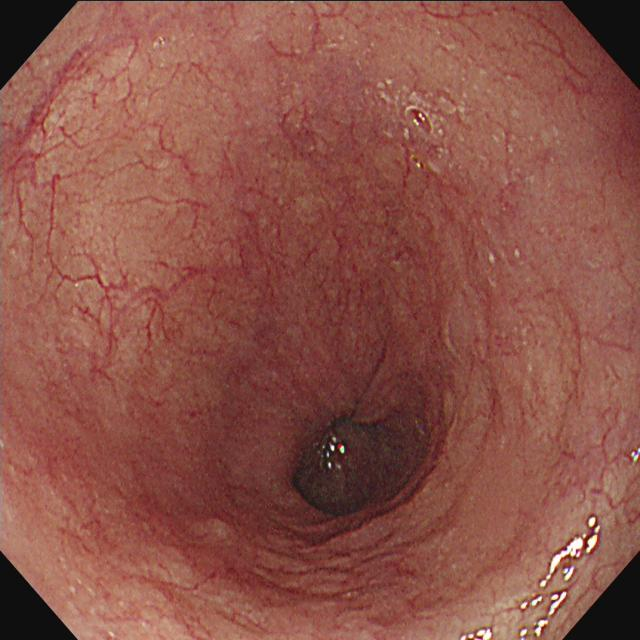T: (406, 107, 434, 138)
U: (519, 515, 601, 640), (327, 436, 348, 474), (461, 628, 495, 640)
